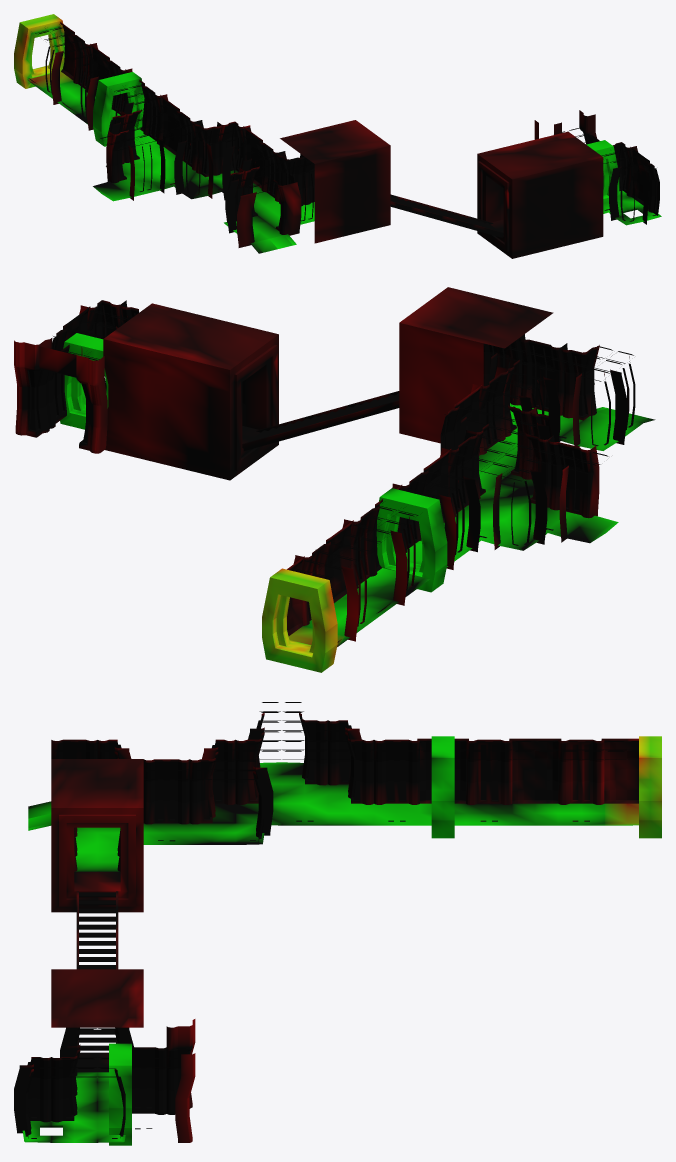
Rendered from corridor_f.glb.
3 renders of one model, top to bottom at view 1: azimuth 30°, elevation 25°; view 2: azimuth 150°, elevation 25°; view 3: azimuth 270°, elevation 25°, orthographic. The views are drawn at different scales.
Parts seen in each view (by area): view 1: Corridor_F_Chasm_Access, Corridor_F_Wall_Panels, Corridor_F_Floor, Corridor_F_Doorframes, Corridor_F_Stone_Wall, Corridor_F_Ceiling, Corridor_F_Stairs; view 2: Corridor_F_Chasm_Access, Corridor_F_Wall_Panels, Corridor_F_Doorframes, Corridor_F_Floor, Corridor_F_Stone_Wall, Corridor_F_Ceiling, Corridor_F_Stairs; view 3: Corridor_F_Wall_Panels, Corridor_F_Floor, Corridor_F_Chasm_Access, Corridor_F_Stone_Wall, Corridor_F_Doorframes, Corridor_F_Ceiling, Corridor_F_Stairs.
Boxes of the visible parts, x1,y1,x2,y2 form: Corridor_F_Chasm_Access: (280, 120, 603, 258); Corridor_F_Wall_Panels: (45, 33, 659, 247); Corridor_F_Floor: (27, 71, 661, 253); Corridor_F_Doorframes: (14, 14, 619, 199); Corridor_F_Stone_Wall: (28, 22, 650, 208); Corridor_F_Ceiling: (35, 24, 656, 193); Corridor_F_Stairs: (390, 194, 503, 237); Corridor_F_Chasm_Access: (103, 287, 553, 480); Corridor_F_Wall_Panels: (14, 300, 635, 641); Corridor_F_Doorframes: (60, 333, 447, 672); Corridor_F_Floor: (81, 375, 655, 646); Corridor_F_Stone_Wall: (62, 306, 481, 642); Corridor_F_Ceiling: (53, 302, 633, 578); Corridor_F_Stairs: (242, 391, 399, 450); Corridor_F_Wall_Panels: (14, 712, 604, 1142); Corridor_F_Floor: (22, 762, 638, 1142); Corridor_F_Chasm_Access: (51, 759, 143, 1072); Corridor_F_Stone_Wall: (417, 738, 638, 803); Corridor_F_Doorframes: (109, 736, 661, 1145); Corridor_F_Ceiling: (29, 702, 638, 1077); Corridor_F_Stairs: (76, 891, 118, 1050).
Size of what is drawn, in the model's own units: 30.88 by 9 by 28.12.
